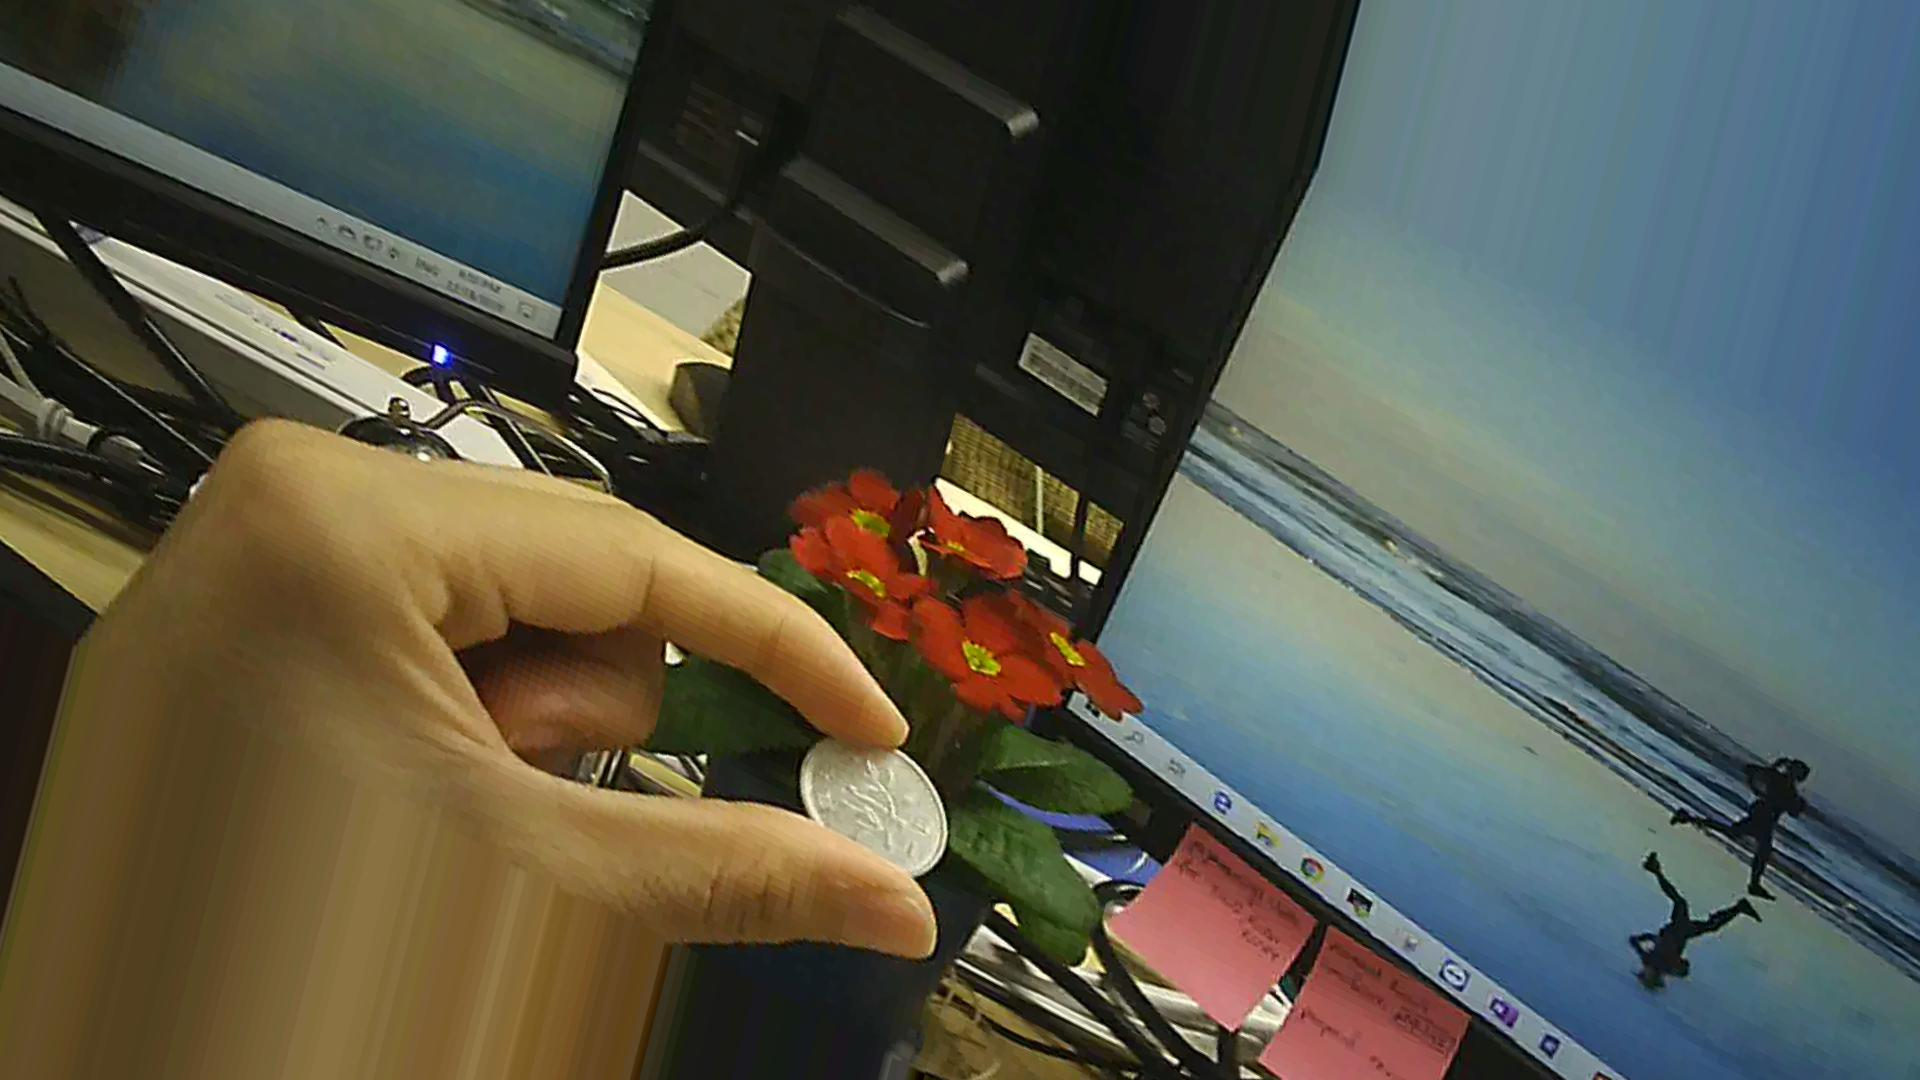1 Yen: (786, 731, 977, 885)
